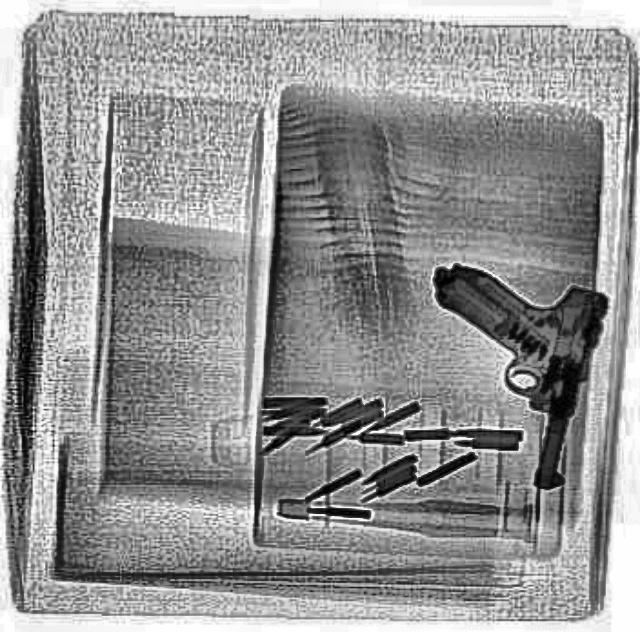Gun: (384, 255, 608, 491)
